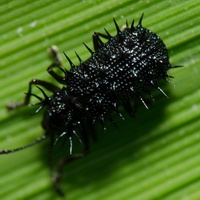insect: (14, 16, 177, 194), (143, 176, 186, 199)
